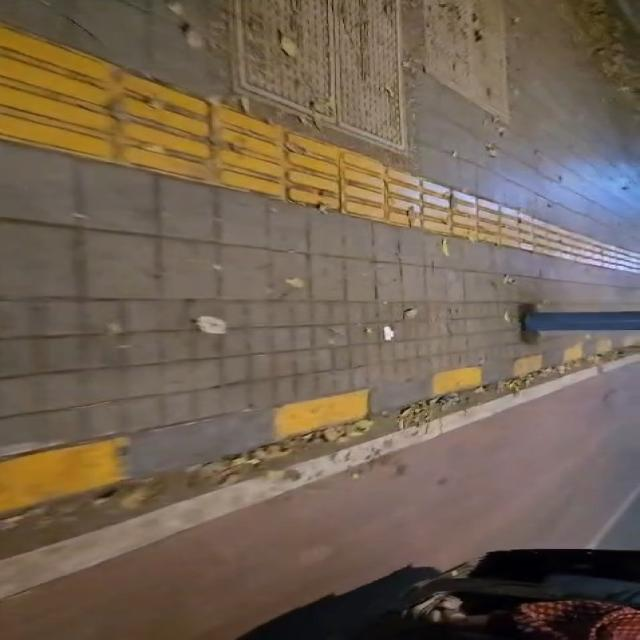obstacle: (523, 311, 639, 332)
